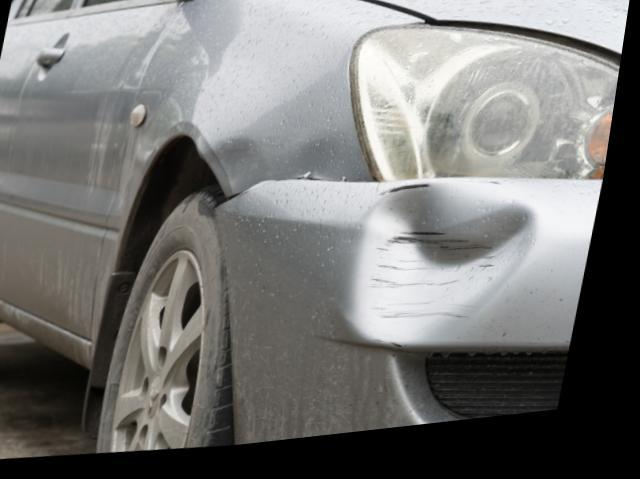dent: (359, 195, 540, 355), (209, 144, 262, 192)
